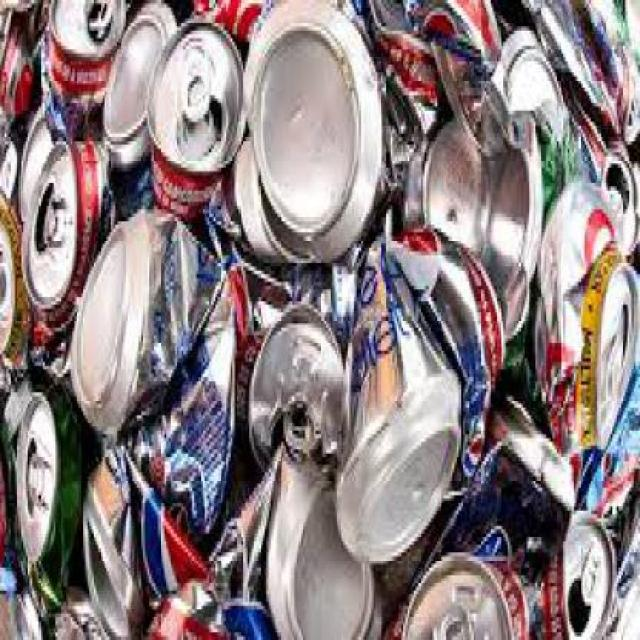METAL: (242, 0, 503, 248), (200, 0, 440, 252), (330, 221, 502, 556), (68, 202, 235, 544), (369, 430, 562, 636), (398, 110, 540, 378), (203, 0, 325, 282), (210, 438, 382, 636), (531, 175, 638, 454), (229, 259, 356, 476), (78, 449, 220, 637), (144, 8, 258, 217), (19, 133, 112, 355), (10, 377, 81, 632), (98, 0, 182, 214), (520, 0, 638, 142), (493, 30, 565, 210), (41, 0, 128, 142), (550, 507, 638, 636), (0, 0, 49, 118), (0, 191, 28, 369)
